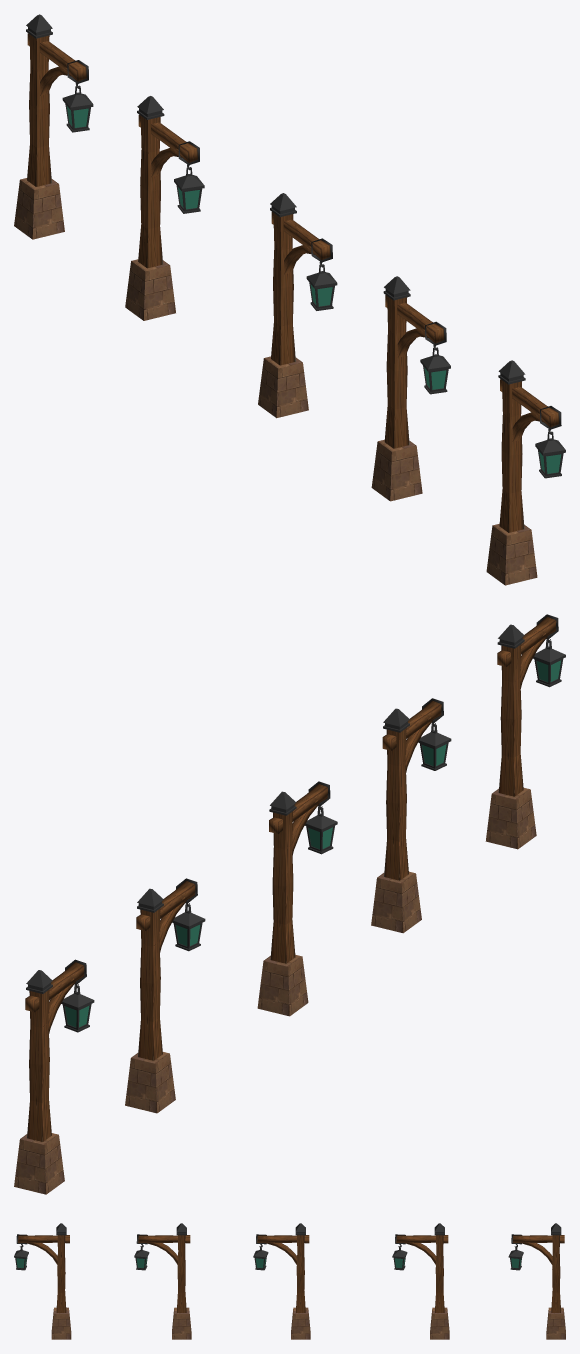
The model's file is lamparas.glb.
3 views of the same model, one above another, from view 1: azimuth 30°, elevation 25°; view 2: azimuth 150°, elevation 25°; view 3: azimuth 270°, elevation 25° (orthographic). The views are drawn at different scales.
Parts seen in each view (by area): view 1: Lamp.005; view 2: Lamp.005; view 3: Lamp.005.
Part boxes in pixels (left/top/right/bottom): Lamp.005: left=14, top=14, right=565, bottom=585; Lamp.005: left=14, top=614, right=565, bottom=1194; Lamp.005: left=14, top=1223, right=565, bottom=1339.
Bounding box in the file's own units: 1.01 × 6.34 × 28.38.
3 materials, 2 textured.
